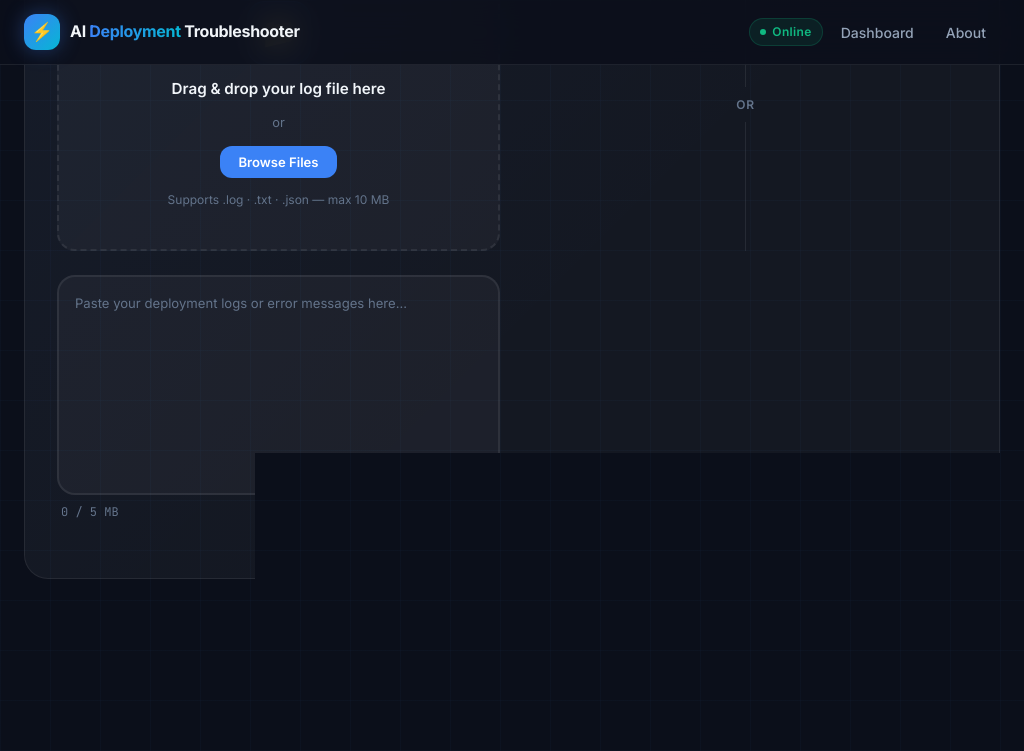
Test: App - Analyze button state › is enabled after typing in the textarea
(page scrolled)
Step 1. Type "ERROR: connection refused" into the text box named "deployment log content" → (278, 385), box [57,275,500,495]
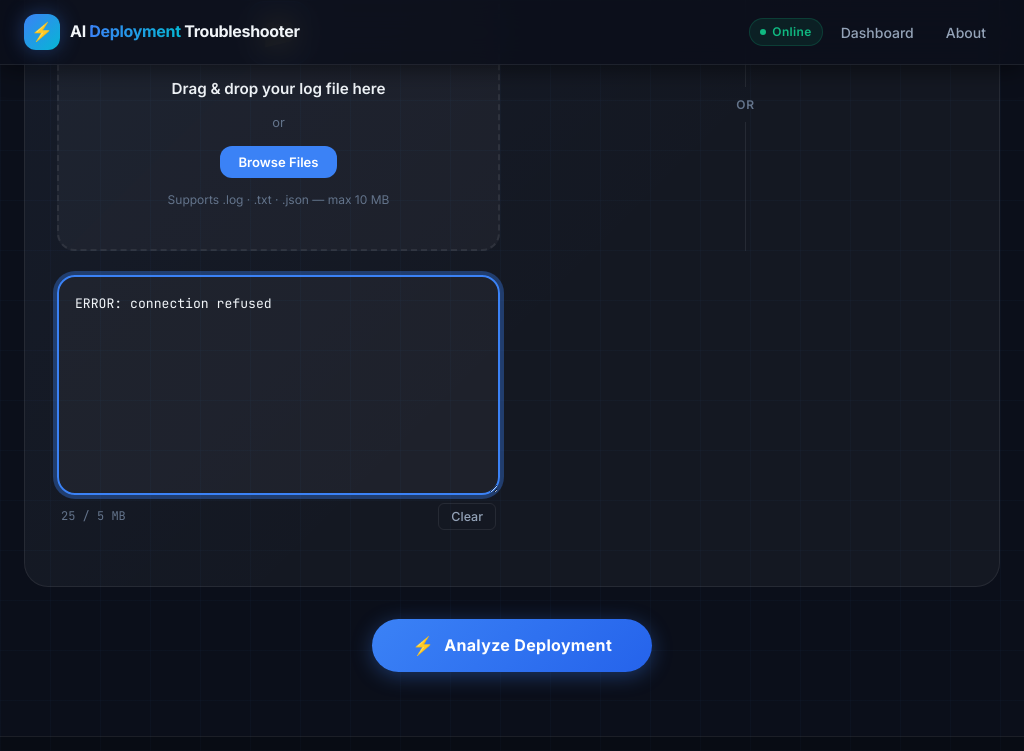
Expected: the button "⚡ Analyze Deployment" is enabled, [372,619,652,672]
